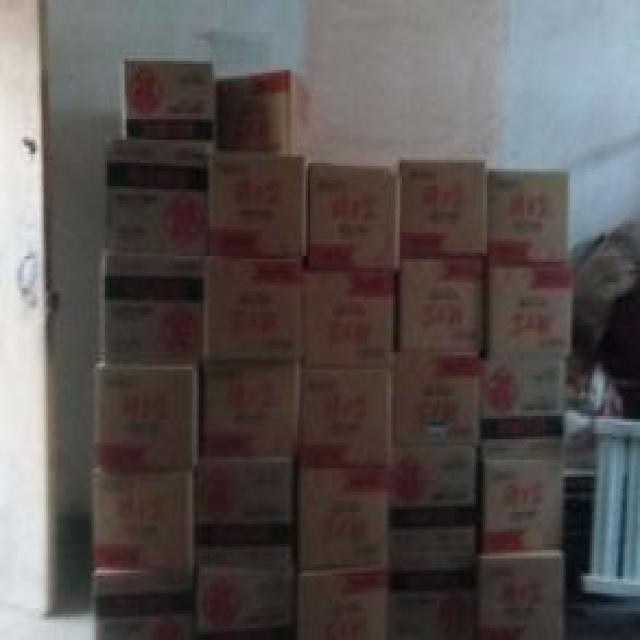box: (105, 247, 208, 367), (107, 137, 210, 250), (201, 256, 308, 364), (94, 361, 199, 471), (94, 465, 194, 576), (210, 148, 308, 259), (194, 538, 297, 640), (299, 358, 395, 465), (391, 448, 476, 567), (199, 361, 304, 457), (295, 465, 391, 570), (310, 160, 398, 271), (476, 448, 561, 559), (478, 352, 566, 457), (194, 457, 299, 544), (391, 352, 483, 451), (398, 157, 487, 259), (395, 256, 487, 352), (483, 262, 574, 355), (122, 55, 216, 145), (476, 547, 564, 640), (308, 268, 398, 358), (216, 73, 312, 154), (489, 172, 570, 265), (94, 567, 194, 640), (295, 567, 389, 640)
